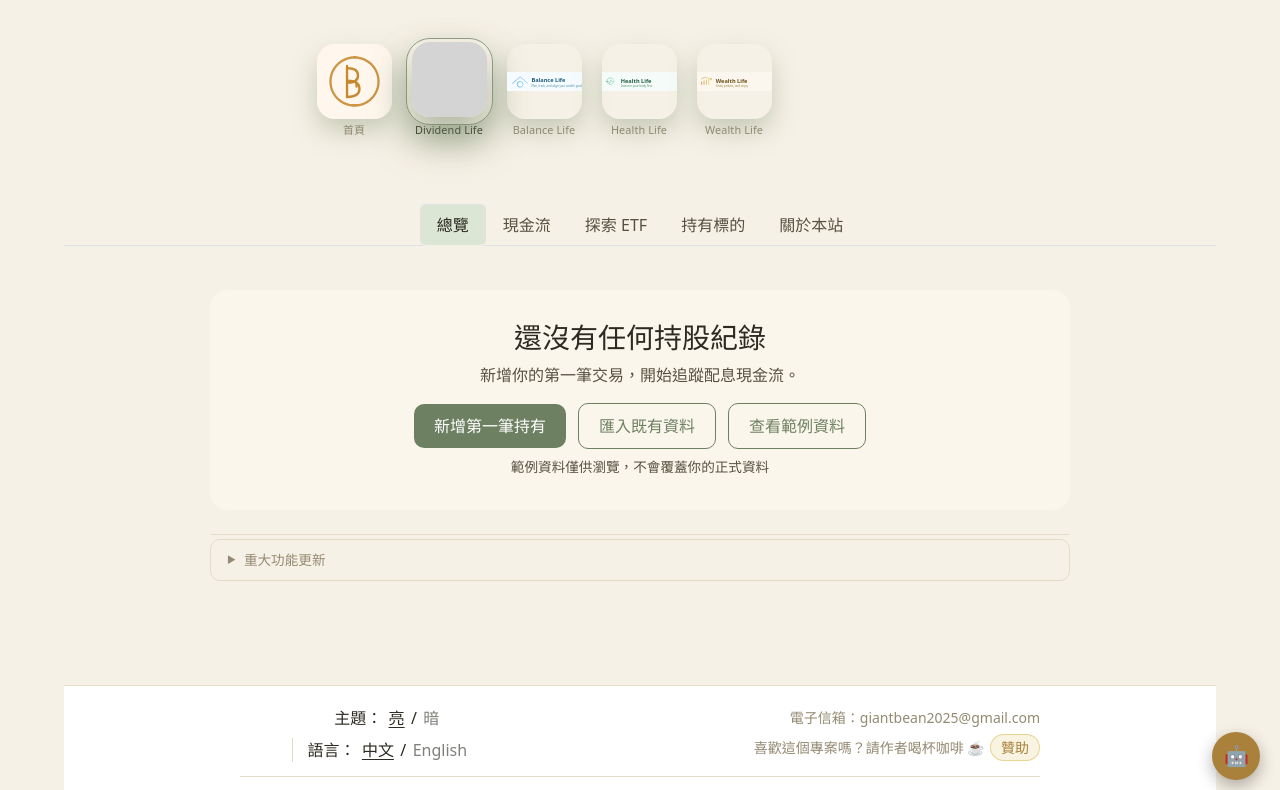
Test: tapping the collapsed summary re-expands the filter bar and it stays expanded on further scrolling
Click the tab "探索 ETF" at x=616, y=225, box x1=568 y1=204 x2=664 y2=246
(page scrolled)
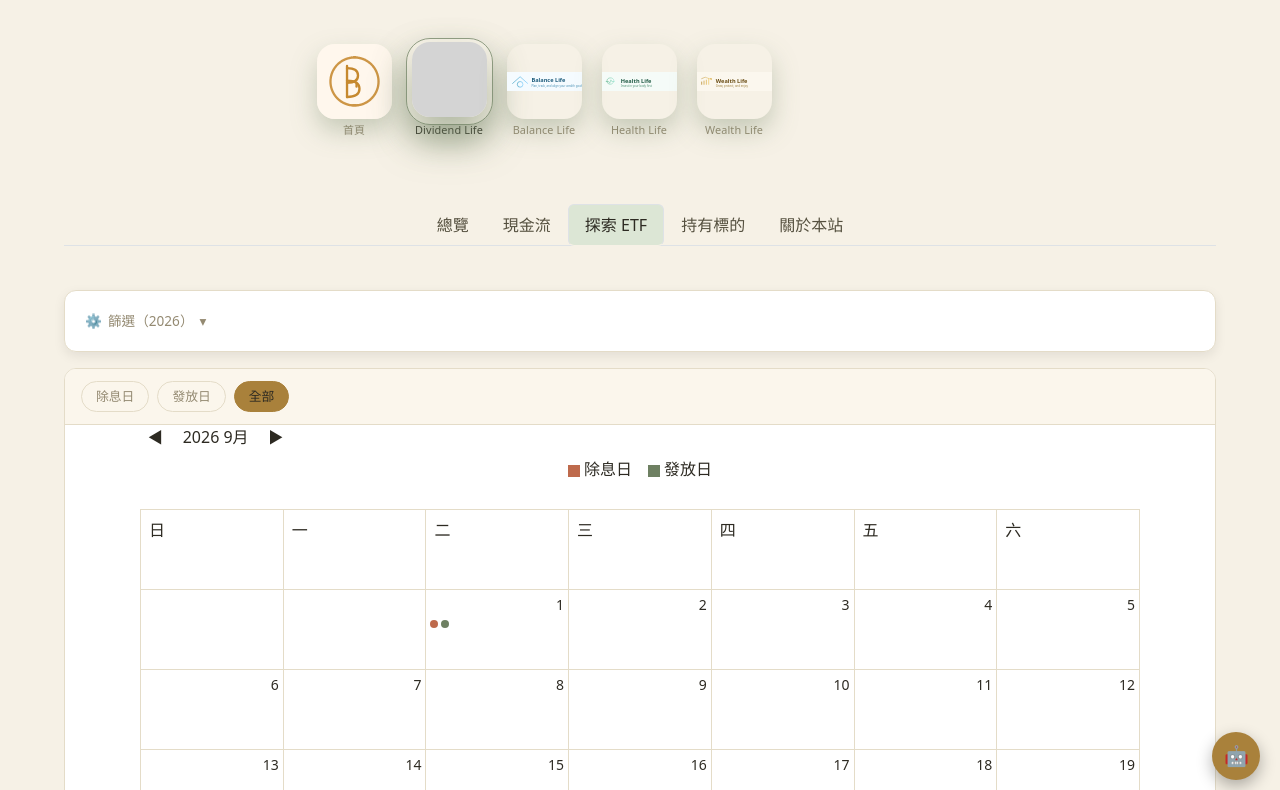
Click the button with class "filter-bar__collapsed-summary" at x=151, y=320, box x1=81 y1=305 x2=1199 y2=337
(page scrolled)
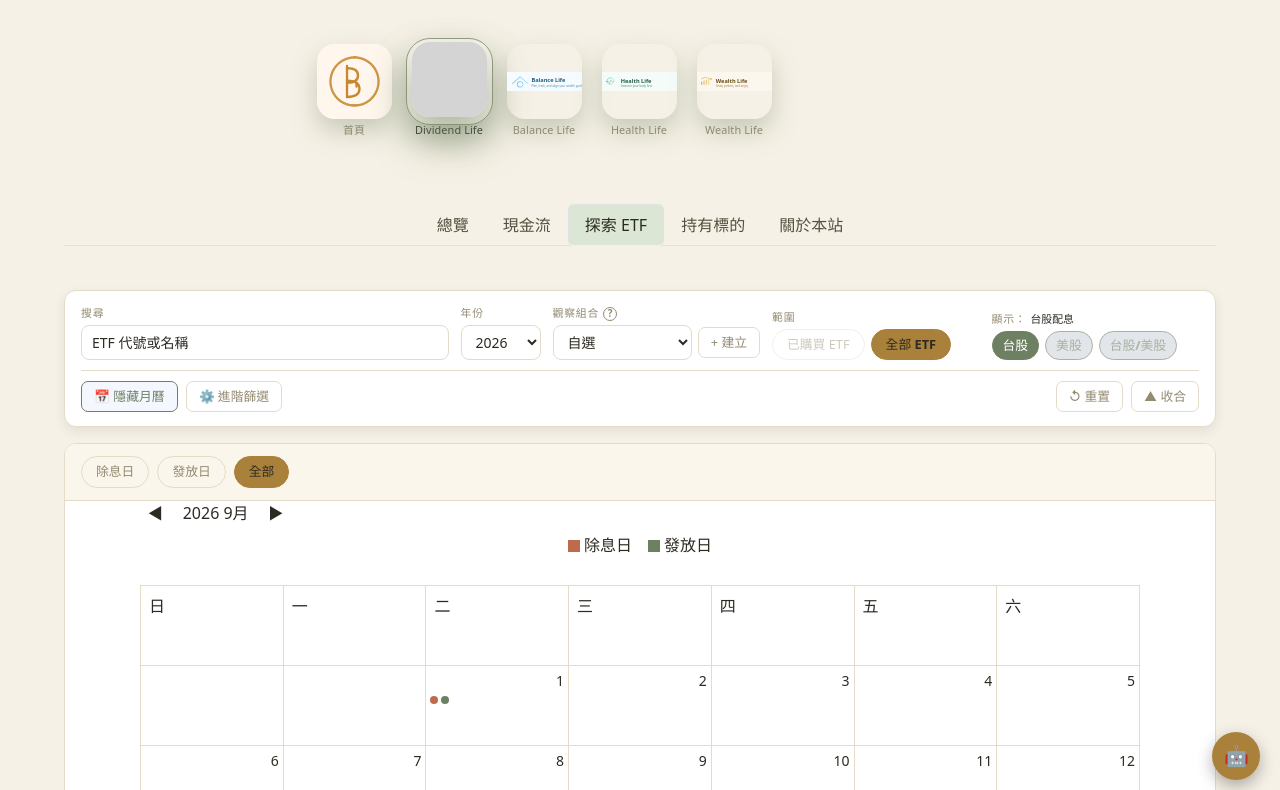
Result: the button with id "filter-search" is shown at x1=81 y1=325 x2=448 y2=360
